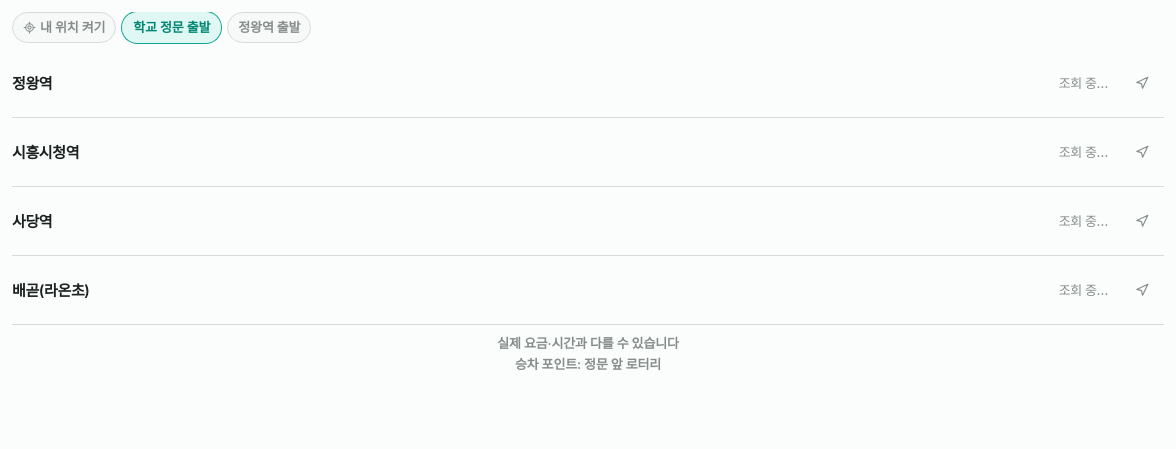
TaxiPanel — GPS 없음(D4) › 정왕역 출발로 바꾸면 학교행 목적지가 보인다
Click the button "정왕역 출발" at (269, 28), box [227,12,311,43]
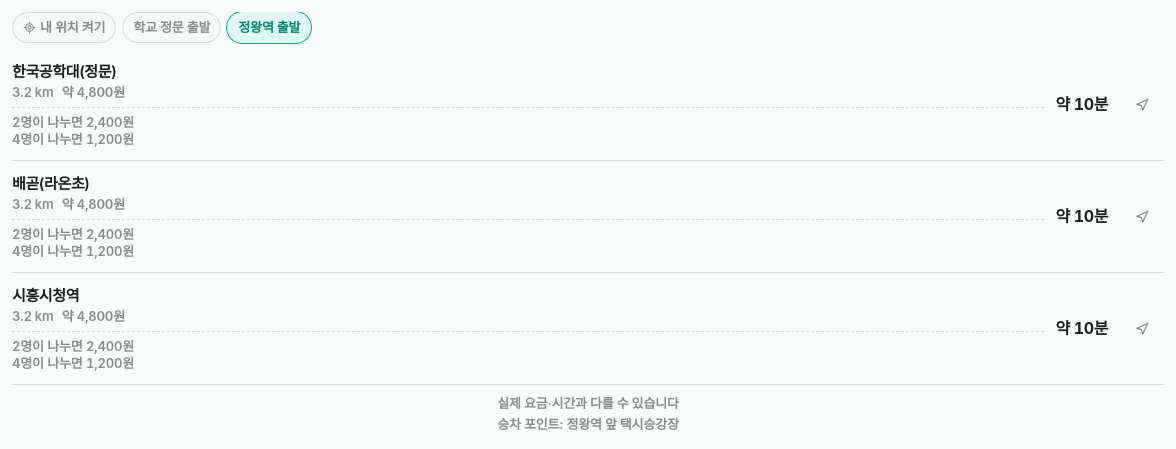
expect the text "한국공학대(정문)" is shown: met, box [12,62,116,81]
expect the text "승차 포인트: 정왕역 앞 택시승강장" is shown: met, box [497,416,679,432]
